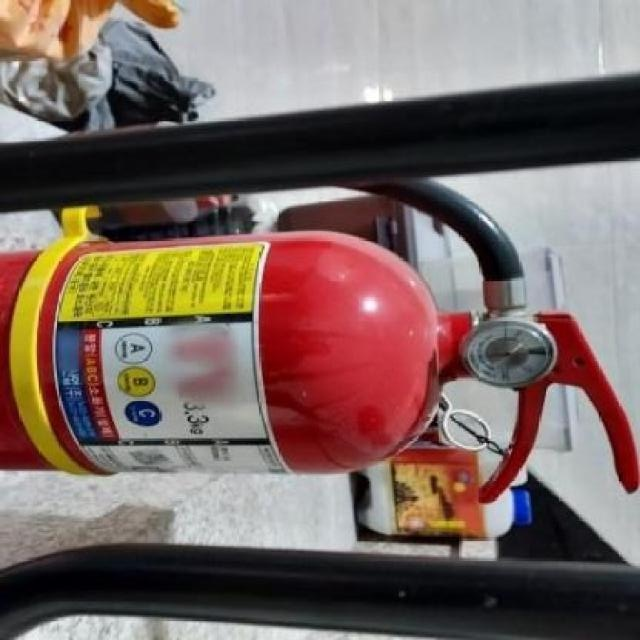fire extinguisher: (0, 176, 640, 504)
